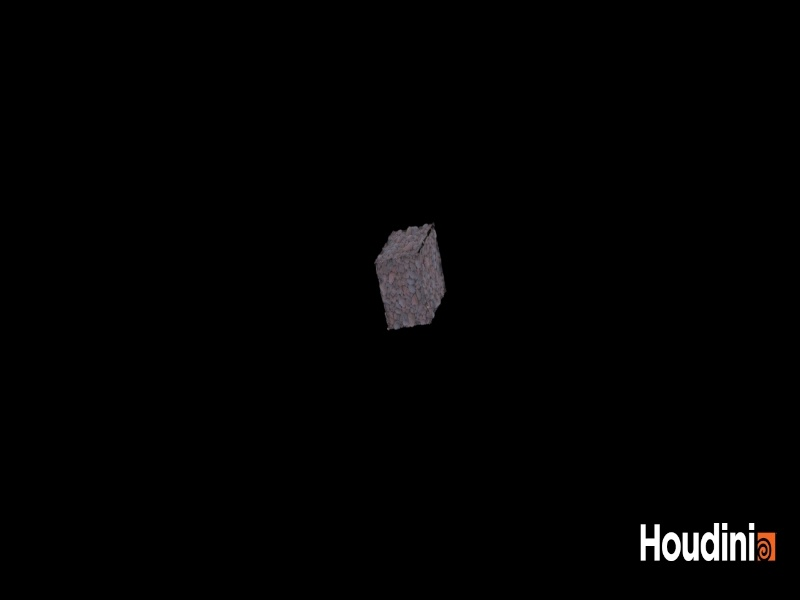waste: (375, 209, 450, 348)
